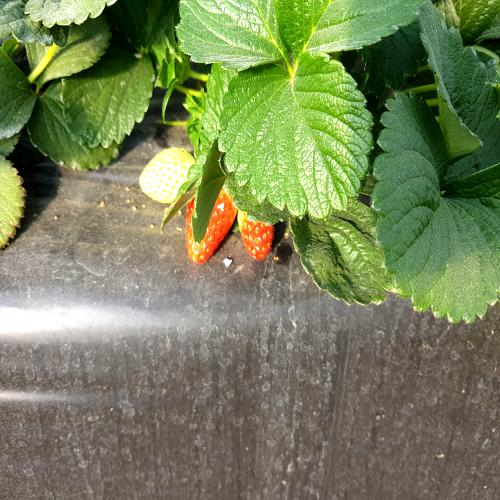ripe: (185, 167, 239, 265)
